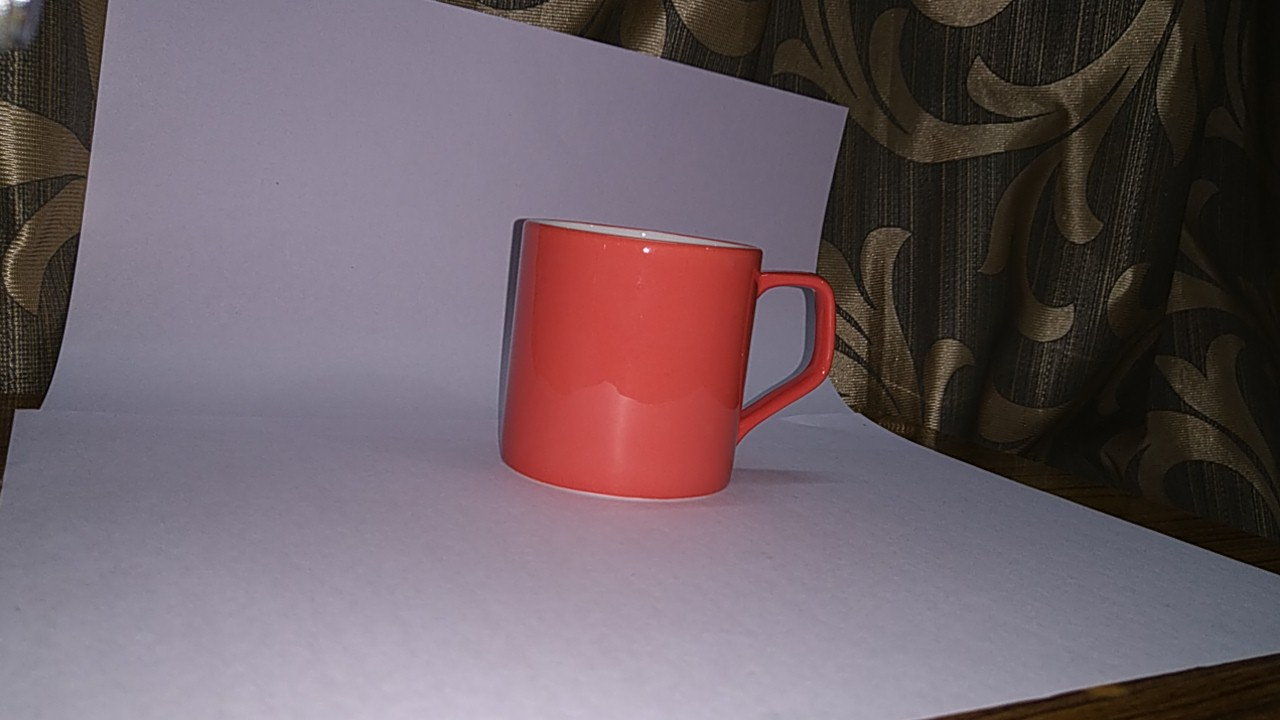cup: (492, 206, 845, 516)
